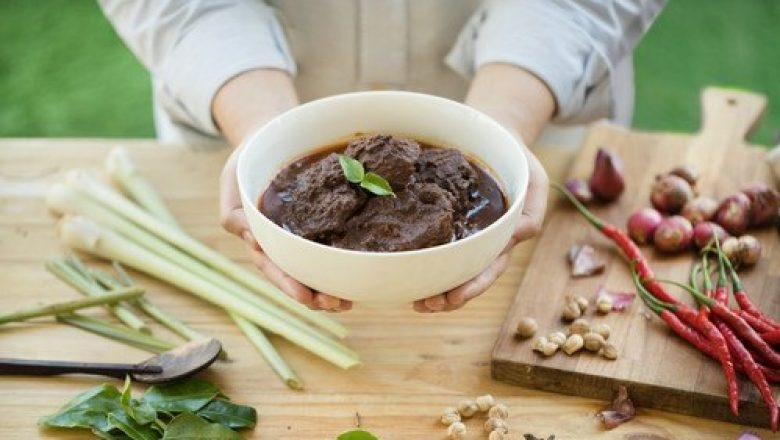rendang: (268, 132, 484, 250)
